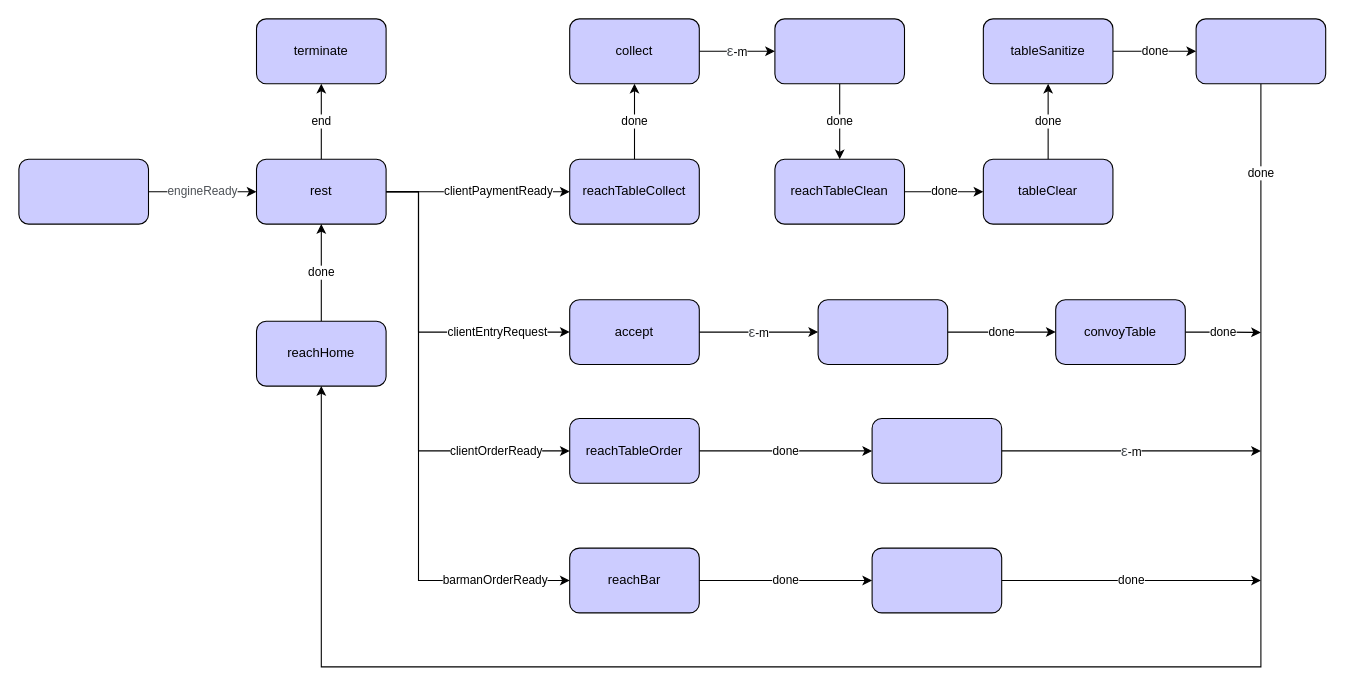
The diagram is 1345 pixels wide and 694 high, and some of its shapes have lost their labels. Each missing label, with the box of its shape:
convoyExit: (774, 18, 905, 84)
init: (18, 158, 148, 224)
reachDoor: (817, 299, 948, 364)
serveTable: (871, 547, 1002, 613)
tableClean: (1195, 18, 1326, 84)
transmit: (871, 417, 1002, 483)
